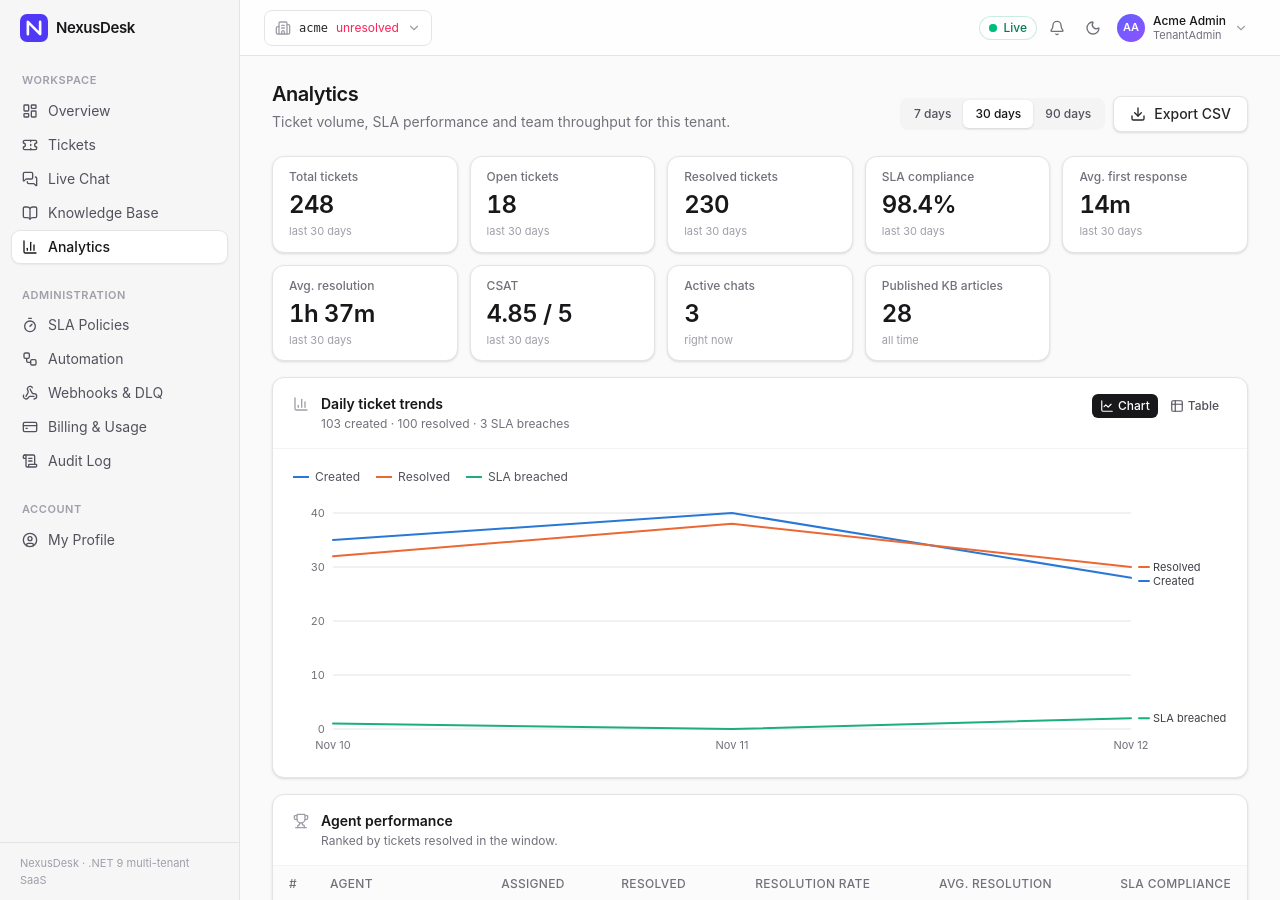
Test: Analytics dashboard › exports the tickets CSV as an authenticated blob download
Expected: the element with test id "kpi-totalTickets" shows "248", 289,190 -> 334,219
Click the radio button labelled "90 days" at point(1068, 114), box 1033,100 -> 1103,128
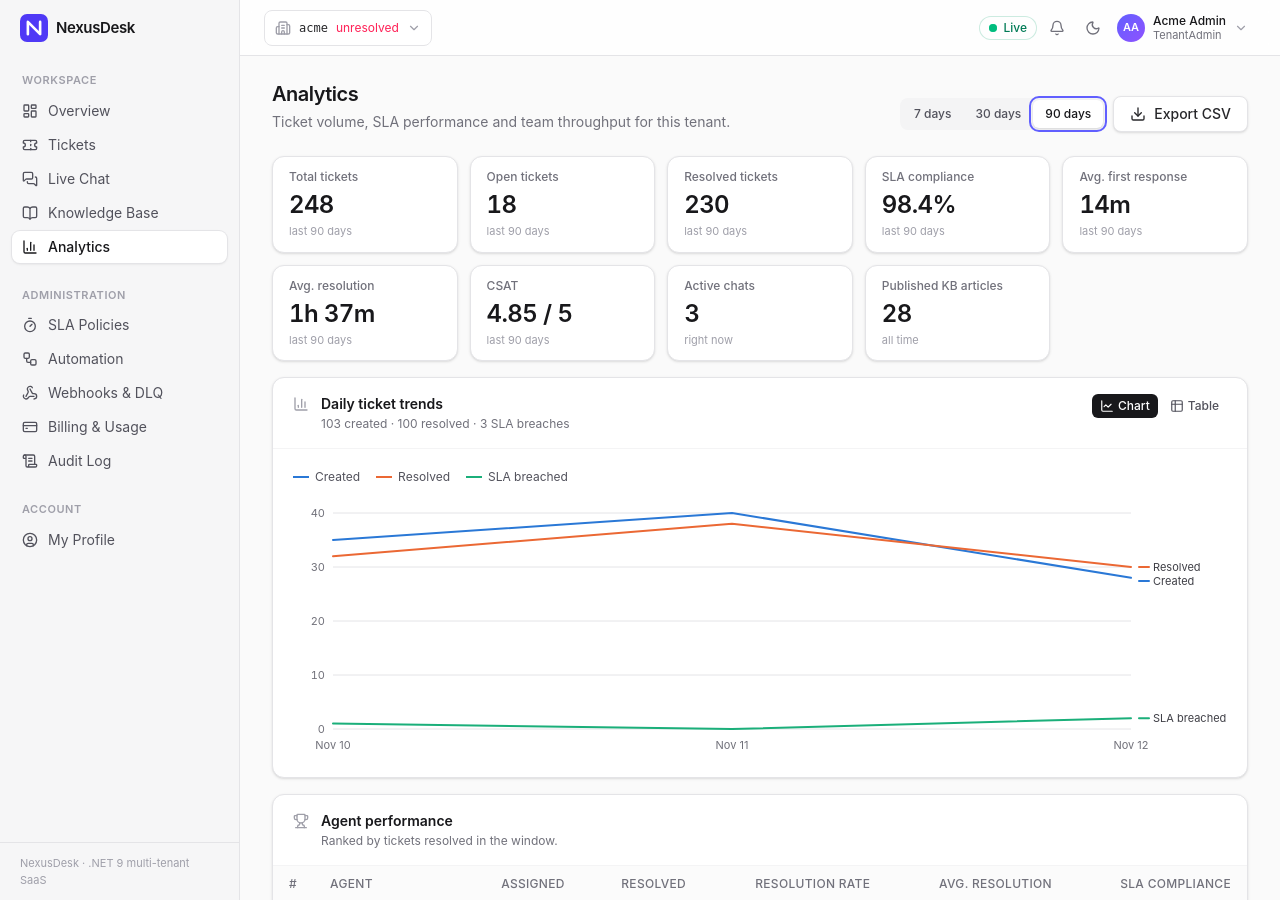
Click the button "Export CSV" at point(1181, 114), box 1113,96 -> 1248,132
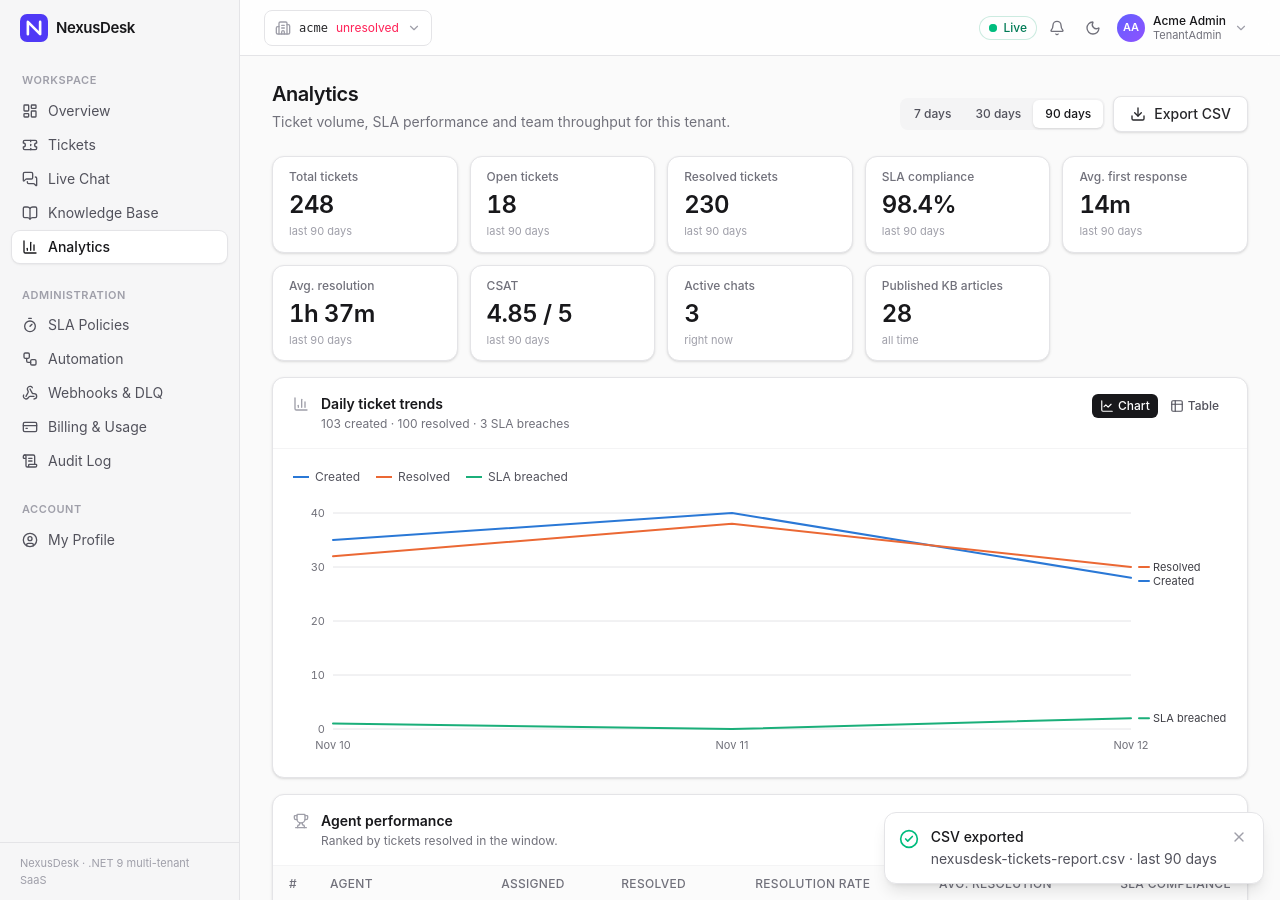
Expected: the text "acme" is shown, 299,20 -> 328,36
Now the text "CSV exported" is shown, box 931,828 -> 1024,845
